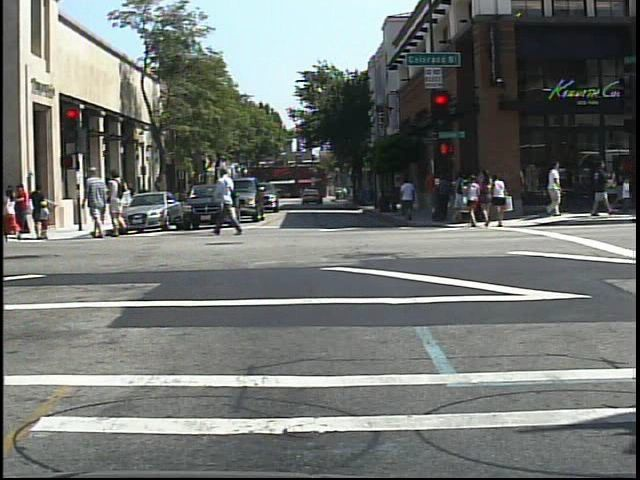person: (213, 161, 246, 238), (82, 164, 109, 239), (0, 179, 26, 244), (108, 166, 130, 238)
